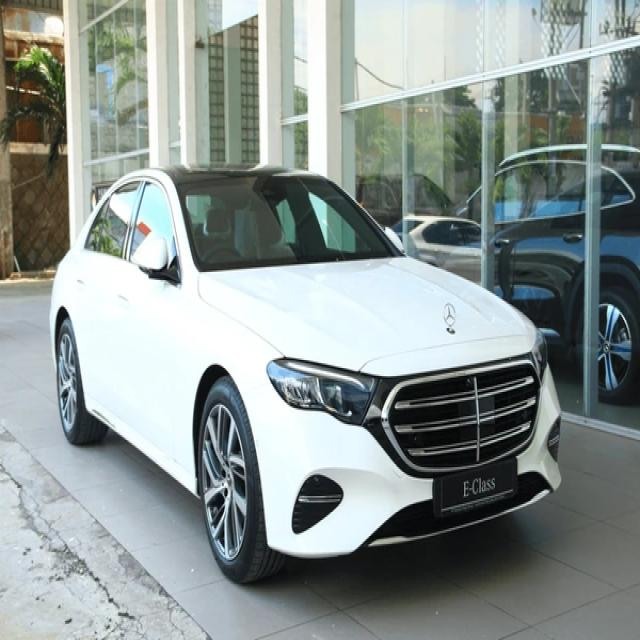mercedes: (442, 297, 459, 330)
